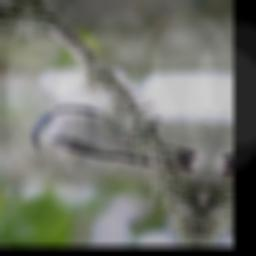Swallow: (24, 99, 204, 175)
